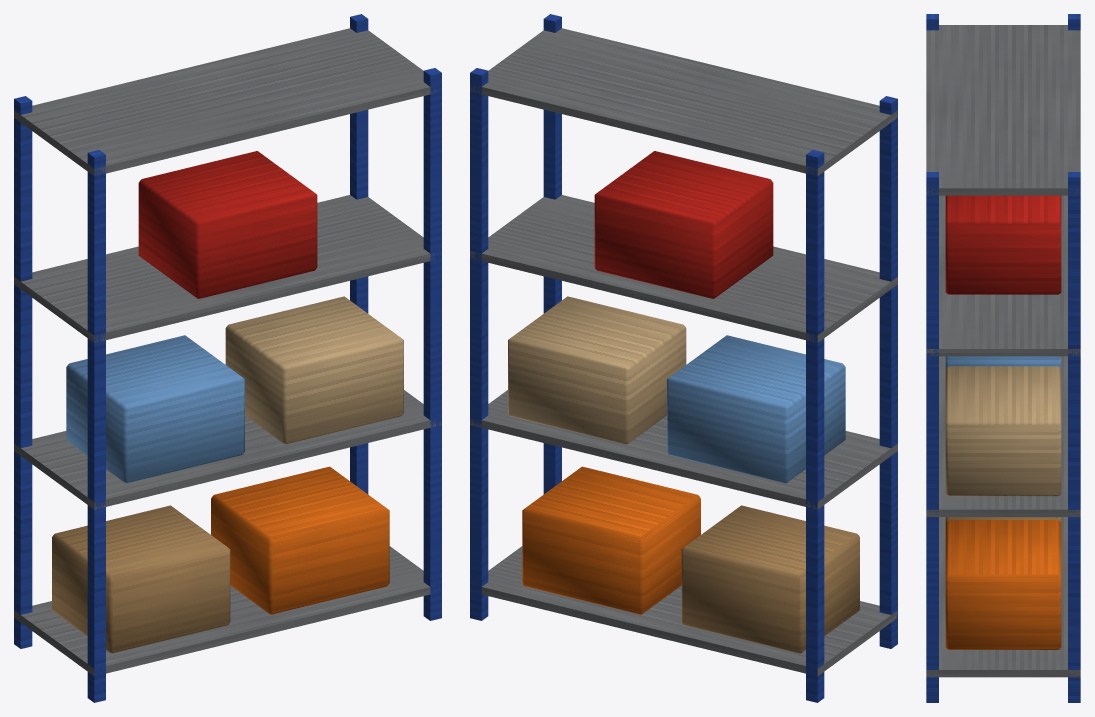
File: estante_pecas.glb
The picture shows the model from 3 angles, left to right: view 1: azimuth 30°, elevation 25°; view 2: azimuth 150°, elevation 25°; view 3: azimuth 270°, elevation 25°; orthographic projection. The views are drawn at different scales.
Parts seen in each view (by area): view 1: Inteiro; view 2: Inteiro; view 3: Inteiro.
Boxes of the visible parts, <box> form: Inteiro: <box>14,14,441,702</box>; Inteiro: <box>470,14,897,702</box>; Inteiro: <box>926,14,1080,702</box>.
Size of the model in its own units: 1.2 by 1.8 by 0.48.
1 material, 1 textured.
